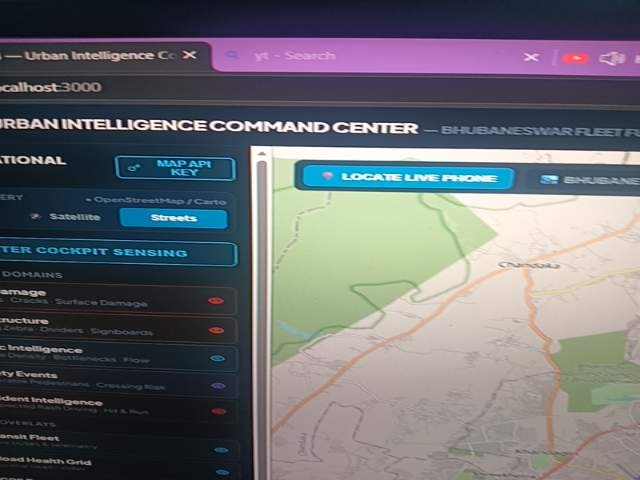pothole: (105, 403, 315, 480)
